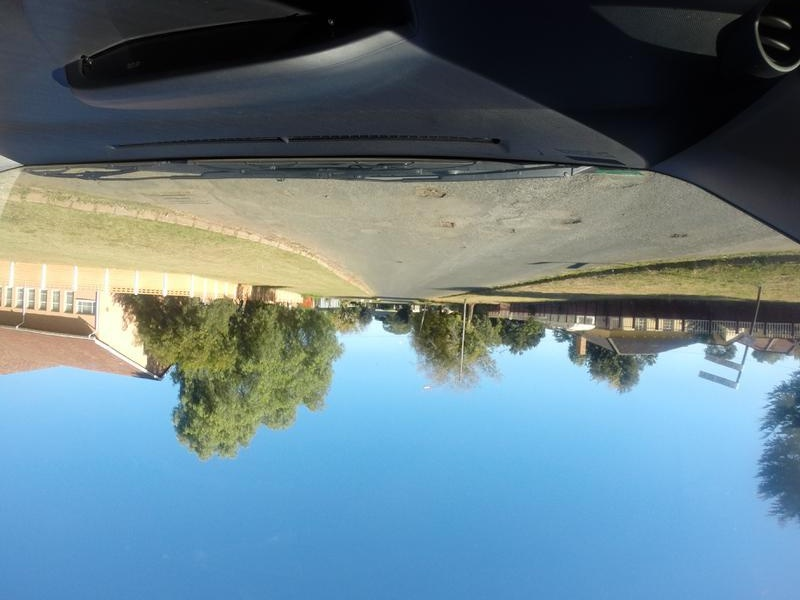pothole: (598, 175, 650, 197), (415, 187, 458, 209), (433, 211, 472, 230), (556, 211, 593, 230), (668, 229, 700, 243)
